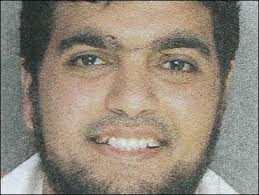middle_eastern_male: (42, 3, 214, 189)
